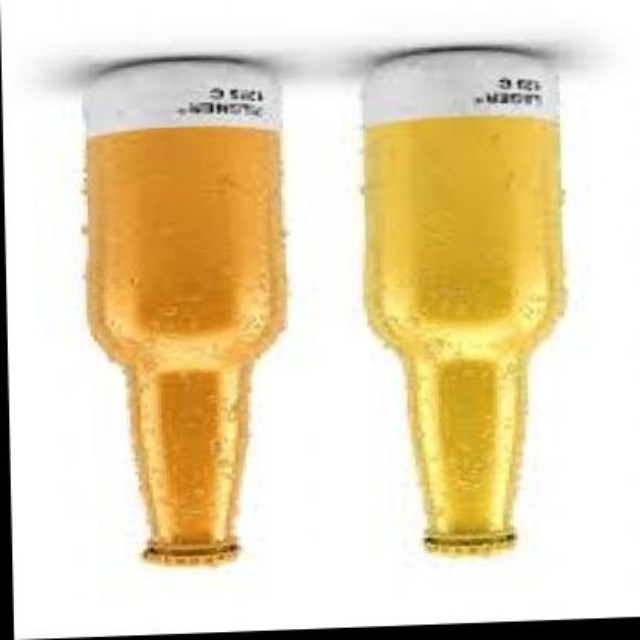trash: (85, 55, 285, 563), (365, 46, 563, 552)
